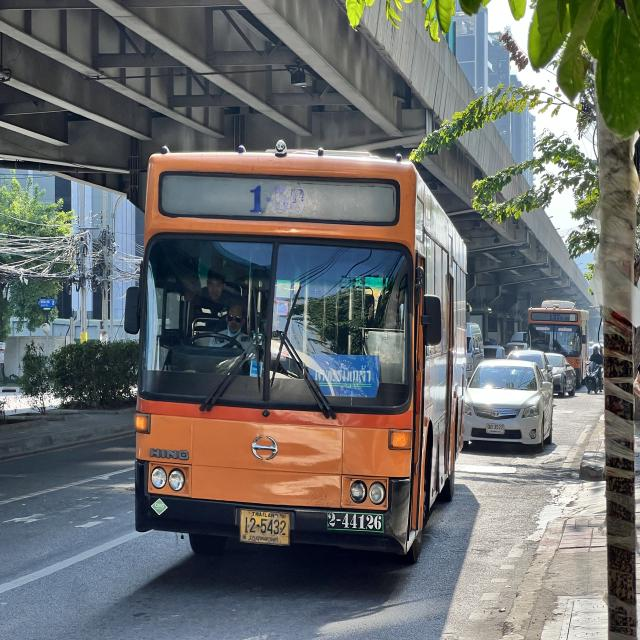BMTA-bus: (131, 147, 468, 563), (526, 299, 589, 394)
Bus-Line-Number: (247, 179, 309, 218), (549, 312, 571, 322)
Destination-Sign-Normal: (308, 355, 381, 397), (561, 344, 574, 354)
